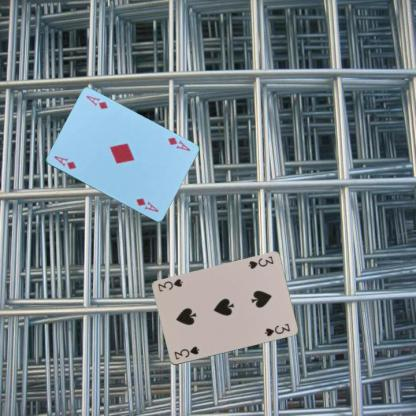3s: (172, 344, 200, 361), (245, 254, 274, 270)
Ad: (51, 153, 77, 171), (165, 134, 191, 152)
